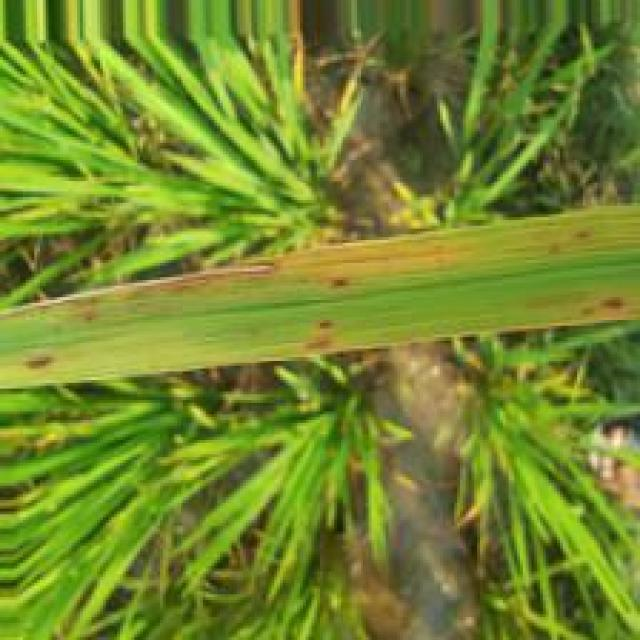Brown_Spot: (4, 263, 282, 315), (22, 352, 56, 367), (300, 340, 329, 353), (313, 319, 345, 330), (602, 298, 630, 309), (329, 279, 356, 290)
